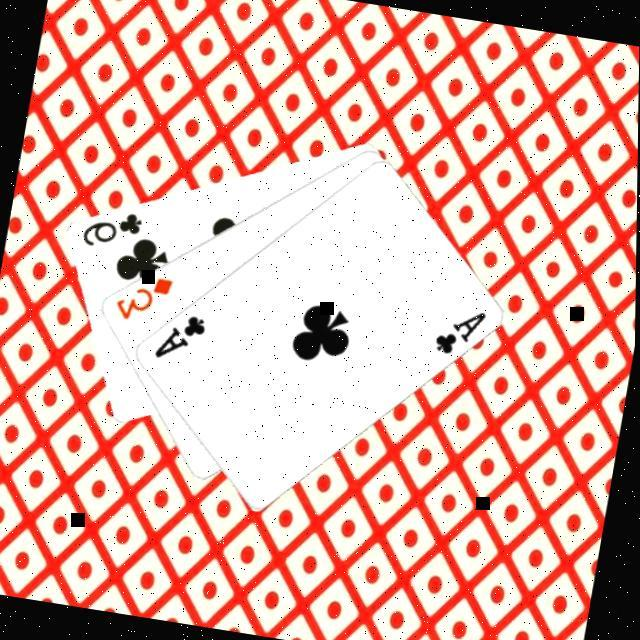3D: (110, 270, 179, 332)
6C: (77, 204, 148, 259)
AC: (152, 309, 213, 370), (431, 304, 492, 365)
